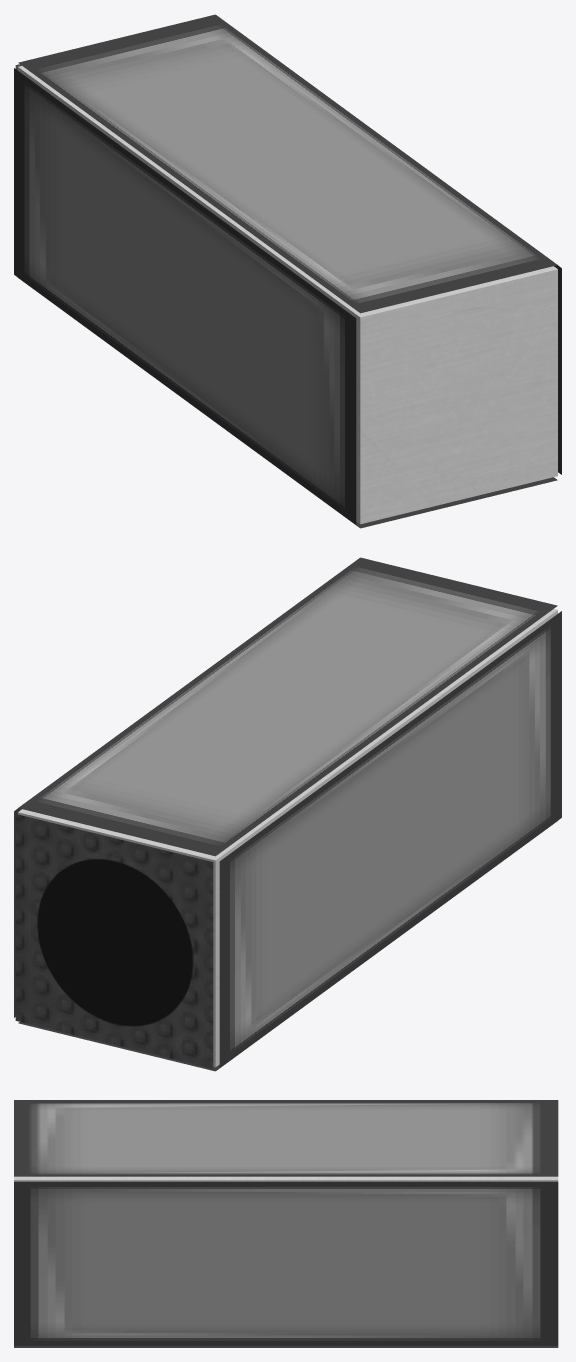
Rendered from objectdetector.obj.
The picture shows the model from 3 angles, top to bottom: view 1: azimuth 30°, elevation 25°; view 2: azimuth 150°, elevation 25°; view 3: azimuth 270°, elevation 25°; orthographic projection. The views are drawn at different scales.
Parts seen in each view (by area): view 1: Objectdetector3, Objectdetector5, Objectdetector1, Objectdetector6, Objectdetector2; view 2: Objectdetector3, Objectdetector5, Objectdetector4, Objectdetector1, Objectdetector6; view 3: Objectdetector2, Objectdetector5, Objectdetector1, Objectdetector6.
Boxes of the visible parts, x1,y1,x2,y2 form: Objectdetector3: (14,68,356,524); Objectdetector5: (18,14,557,313); Objectdetector1: (18,66,557,524); Objectdetector6: (18,278,557,528); Objectdetector2: (554,265,561,474); Objectdetector3: (219,611,561,1067); Objectdetector5: (18,557,557,856); Objectdetector4: (15,814,213,1068); Objectdetector1: (18,609,557,1067); Objectdetector6: (18,821,557,1071); Objectdetector2: (14,1181,558,1345); Objectdetector5: (14,1100,558,1176); Objectdetector1: (14,1176,558,1181); Objectdetector6: (14,1346,558,1347).
Size of the model in its own units: 1.04 by 1.04 by 3.02.
3 materials, 3 textured.
